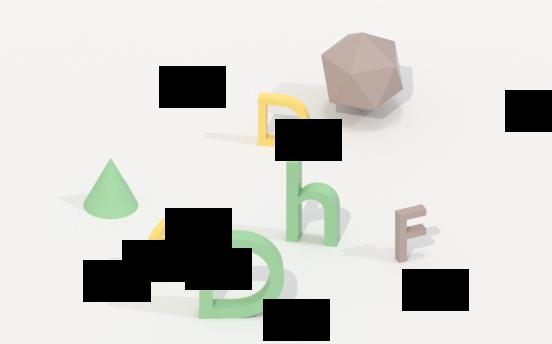6: (144, 219, 179, 276)
F: (394, 202, 428, 264)
d: (199, 228, 285, 320), (257, 91, 310, 151)
dagiac: (322, 31, 404, 114)
h: (284, 150, 342, 247)
non: (82, 157, 140, 220)
